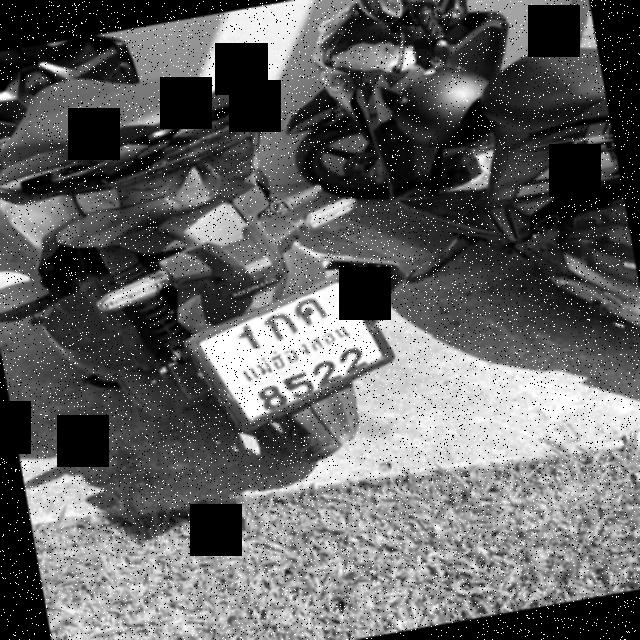letters: (295, 292, 330, 329), (342, 340, 368, 378), (265, 310, 296, 341), (254, 382, 284, 414), (234, 324, 267, 351), (286, 367, 312, 396), (314, 356, 338, 387)
license-plate: (194, 278, 391, 423)
province: (229, 334, 348, 370)
